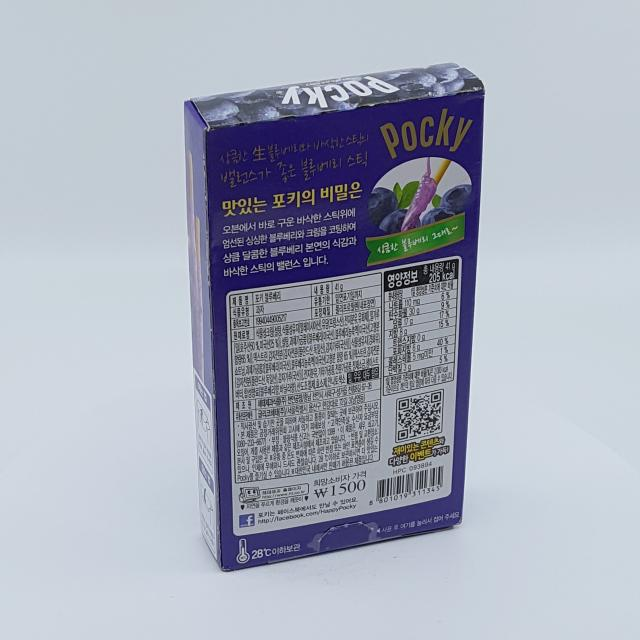-41G: (185, 64, 486, 572)
